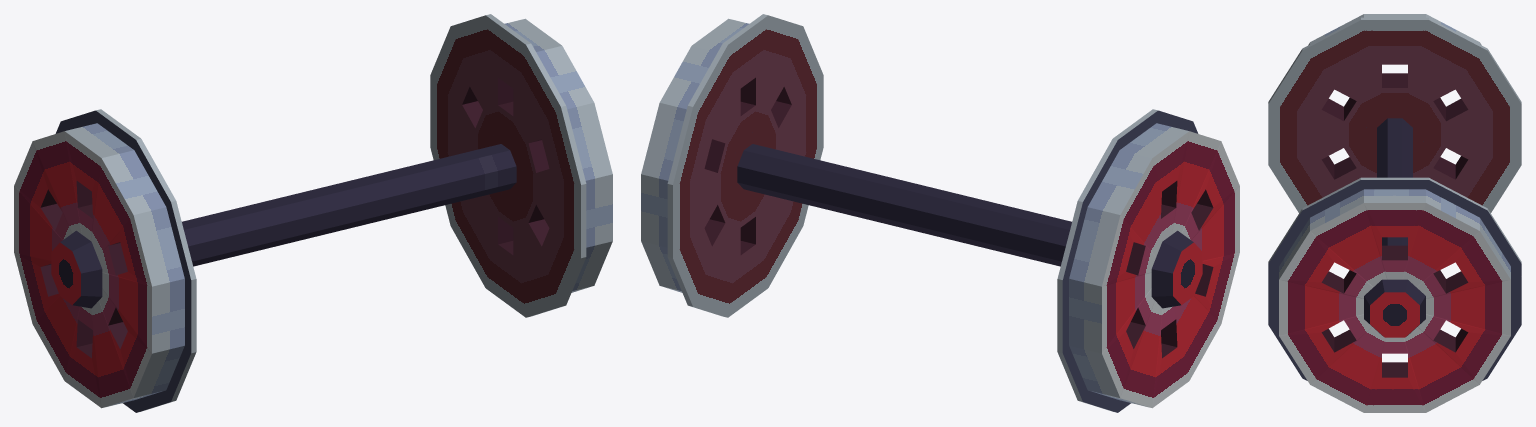
File: qj_guide_wheel.obj
The picture shows the model from 3 angles, left to right: view 1: azimuth 30°, elevation 25°; view 2: azimuth 150°, elevation 25°; view 3: azimuth 270°, elevation 25°; orthographic projection. The views are drawn at different scales.
Parts seen in each view (by area): view 1: cylinder_selection_selection; view 2: cylinder_selection_selection; view 3: cylinder_selection_selection.
Boxes of the visible parts, bbox=[...] form: cylinder_selection_selection: bbox=[14, 14, 612, 412]; cylinder_selection_selection: bbox=[641, 14, 1239, 412]; cylinder_selection_selection: bbox=[1268, 14, 1521, 412].
Size of the model in its own units: 1.74 by 0.92 by 0.92.
